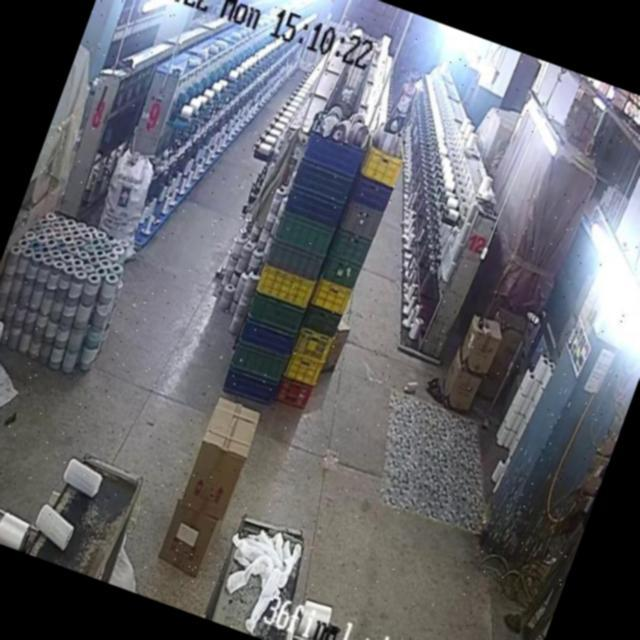person: (506, 453, 607, 640), (392, 68, 423, 127)
